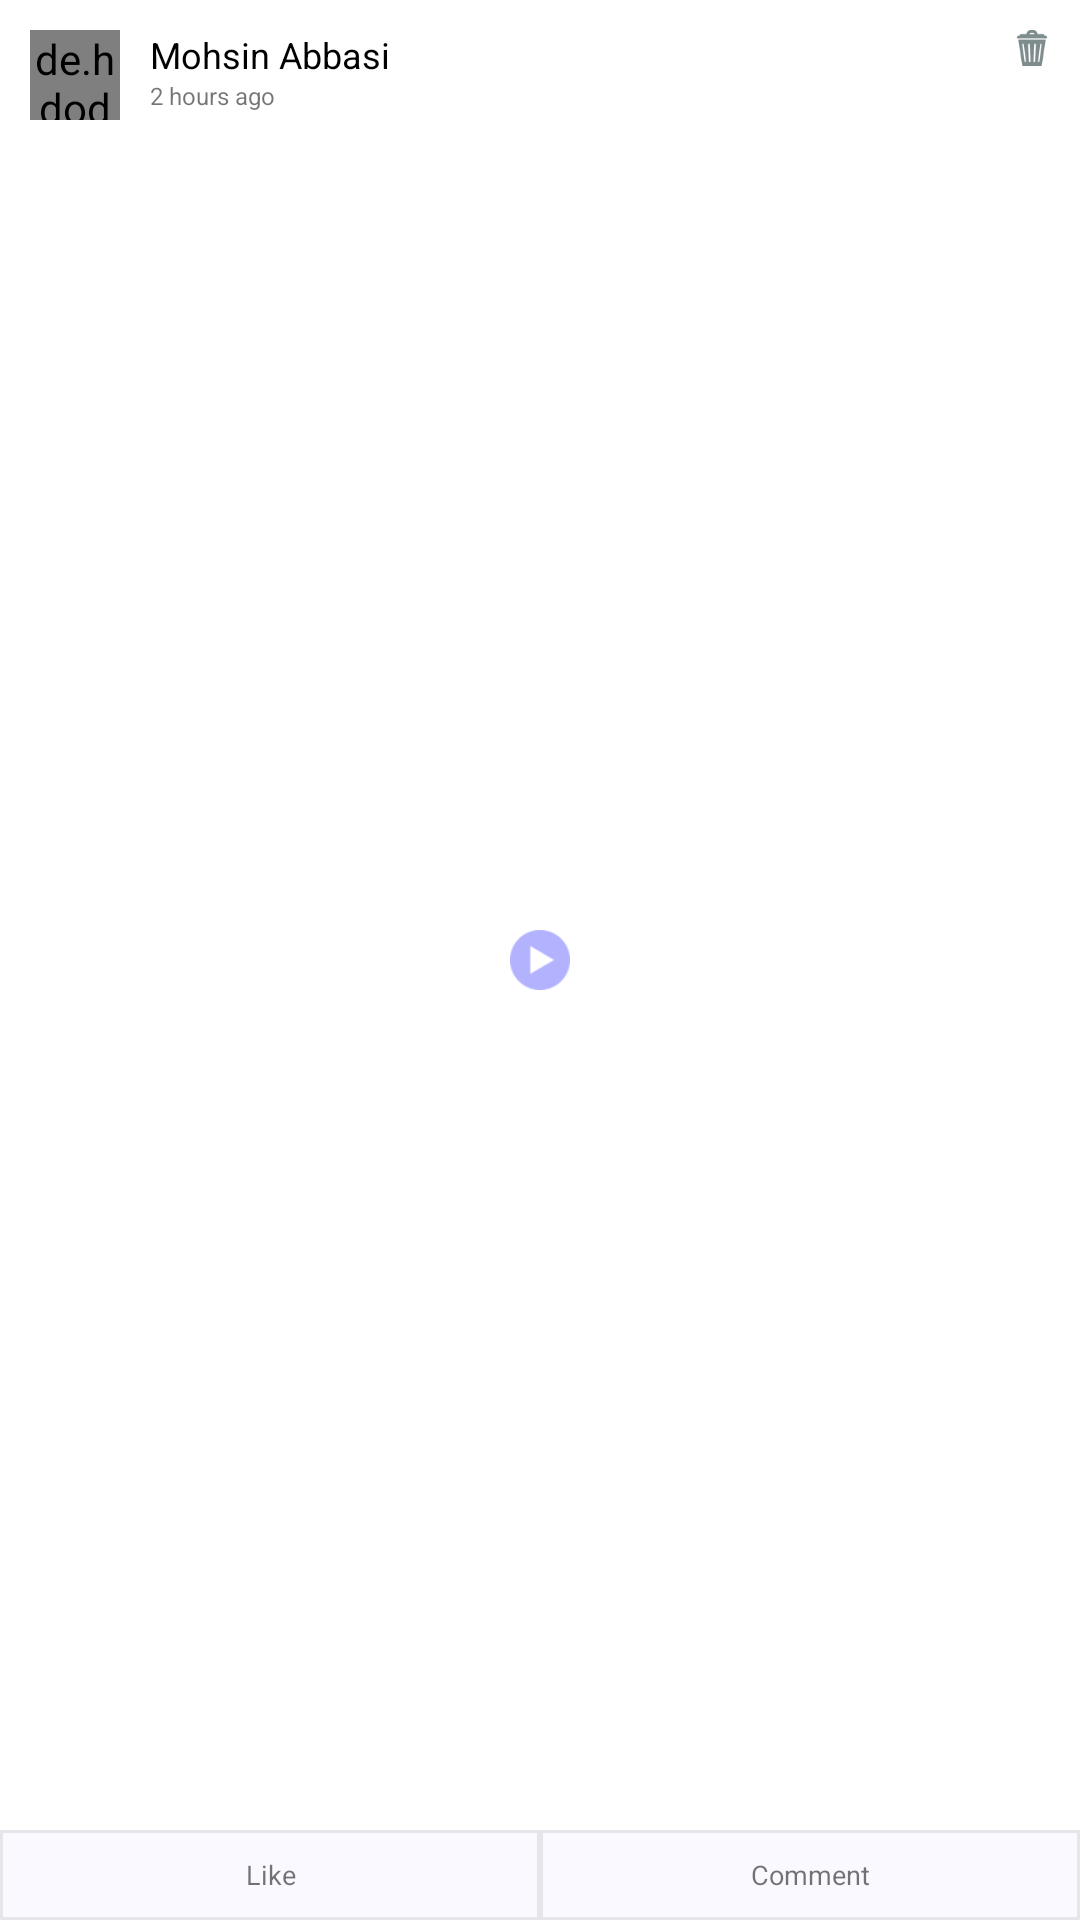

Named icons in this screenshot (1080px×1920px) and their bounding boxes, (x1, y1, x2, y2):
profileplay: (510, 930, 570, 990)
trash: (1017, 30, 1047, 66)
